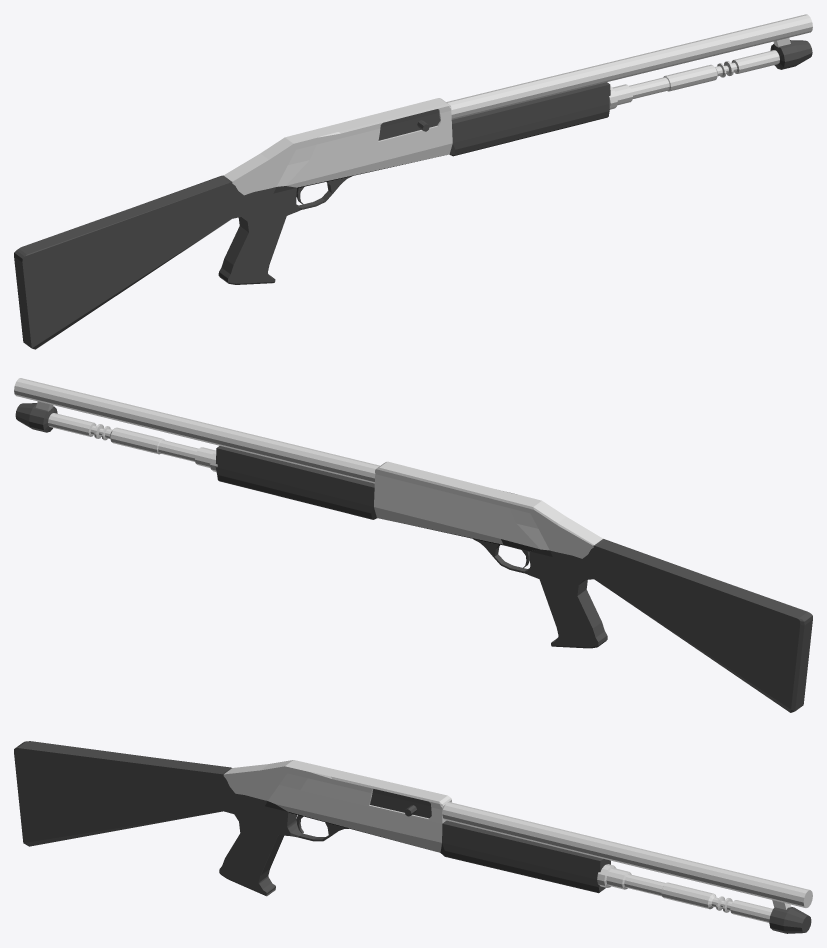
Rendered from M4 Shotgun Model.fbx.
3 views of the same model, one above another, from view 1: azimuth 30°, elevation 25°; view 2: azimuth 150°, elevation 25°; view 3: azimuth 330°, elevation 25° (orthographic).
Parts seen in each view (by area): view 1: Cube; view 2: Cube; view 3: Cube.
Boxes of the visible parts, x1,y1,x2,y2 form: Cube: (14,14,812,349); Cube: (14,378,812,712); Cube: (14,741,812,933).
Bounding box in the file's own units: 454 × 80.09 × 16.
1 material, 1 textured.
